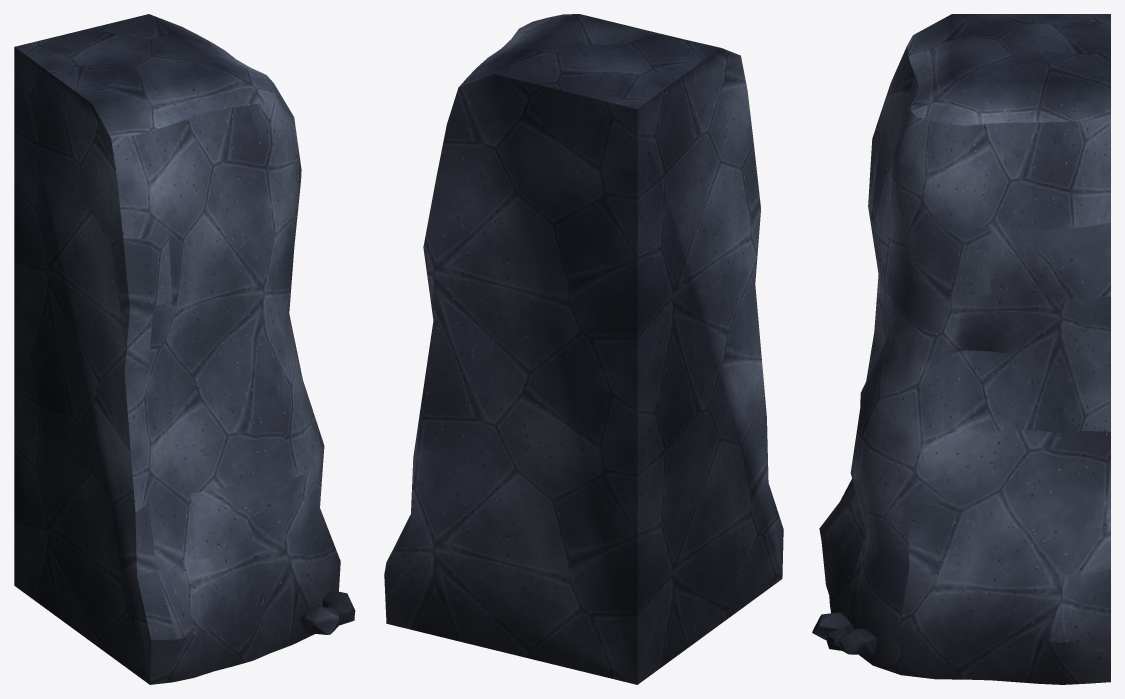
The model's file is cave_wall_corner.glb.
The picture shows the model from 3 angles, left to right: view 1: azimuth 30°, elevation 25°; view 2: azimuth 150°, elevation 25°; view 3: azimuth 270°, elevation 25°; orthographic projection. The views are drawn at different scales.
Parts seen in each view (by area): view 1: cave_wall_corner; view 2: cave_wall_corner; view 3: cave_wall_corner.
Part boxes in pixels (bbox=[...]): cave_wall_corner: bbox=[14, 14, 355, 684]; cave_wall_corner: bbox=[384, 14, 783, 684]; cave_wall_corner: bbox=[812, 14, 1110, 684].
Bounding box in the file's own units: 1.26 × 2.64 × 1.28.
1 material, 1 textured.
